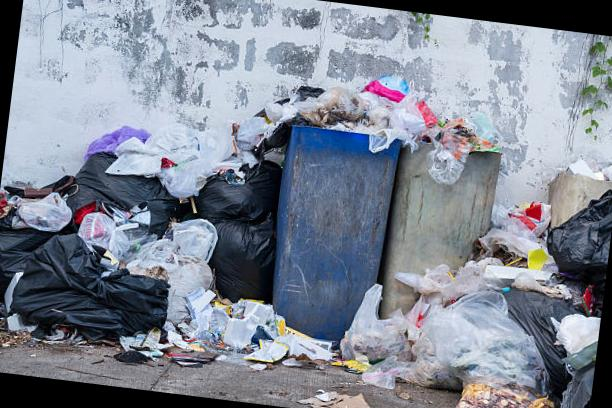trash: (0, 234, 184, 386), (388, 261, 549, 408), (43, 113, 178, 248), (140, 274, 314, 378), (470, 227, 590, 363), (449, 307, 579, 408), (524, 159, 612, 308), (276, 52, 420, 138), (0, 155, 95, 270), (192, 197, 298, 294), (322, 273, 410, 385), (189, 140, 279, 230), (472, 187, 547, 294), (206, 89, 300, 171), (531, 302, 601, 408), (134, 198, 215, 289)
trash_can_overflow: (144, 54, 414, 400), (358, 56, 594, 408)
